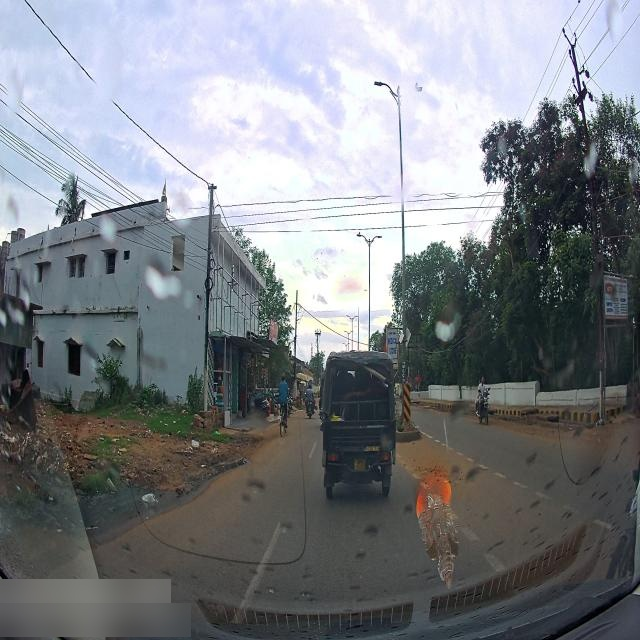pothole: (58, 500, 164, 529)
